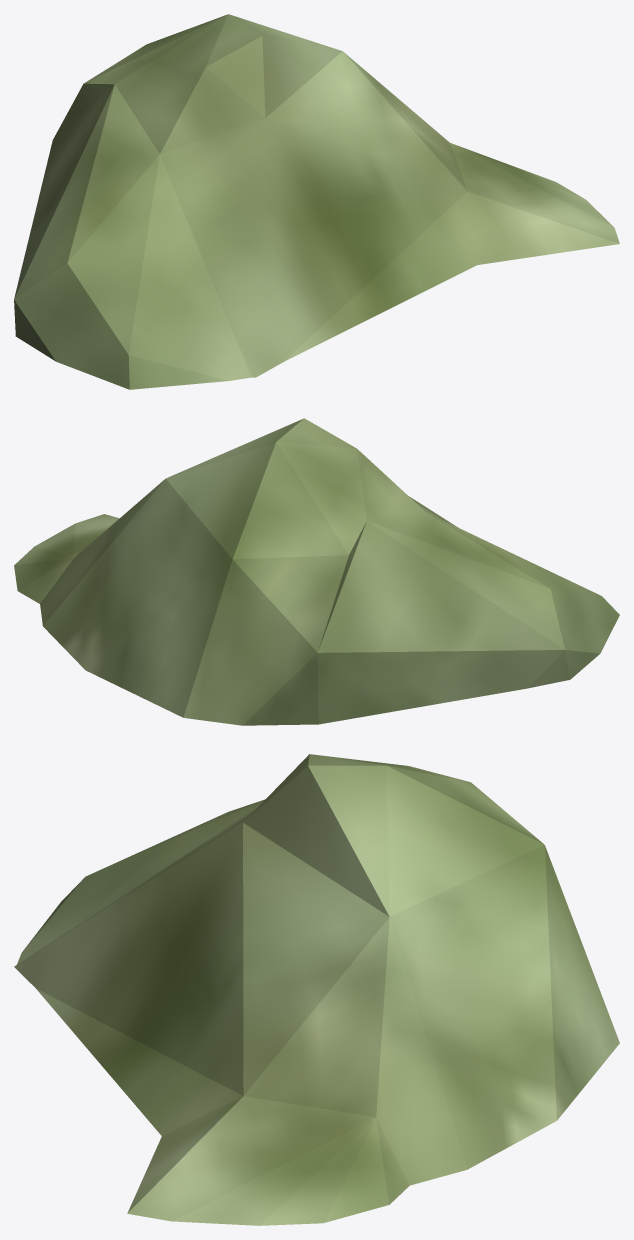
3 views of the same model, one above another, from view 1: azimuth 30°, elevation 25°; view 2: azimuth 150°, elevation 25°; view 3: azimuth 270°, elevation 25° (orthographic). The views are drawn at different scales.
Size of the model in its own units: 0.3877 by 0.1461 by 0.29.
1 material, 1 textured.
